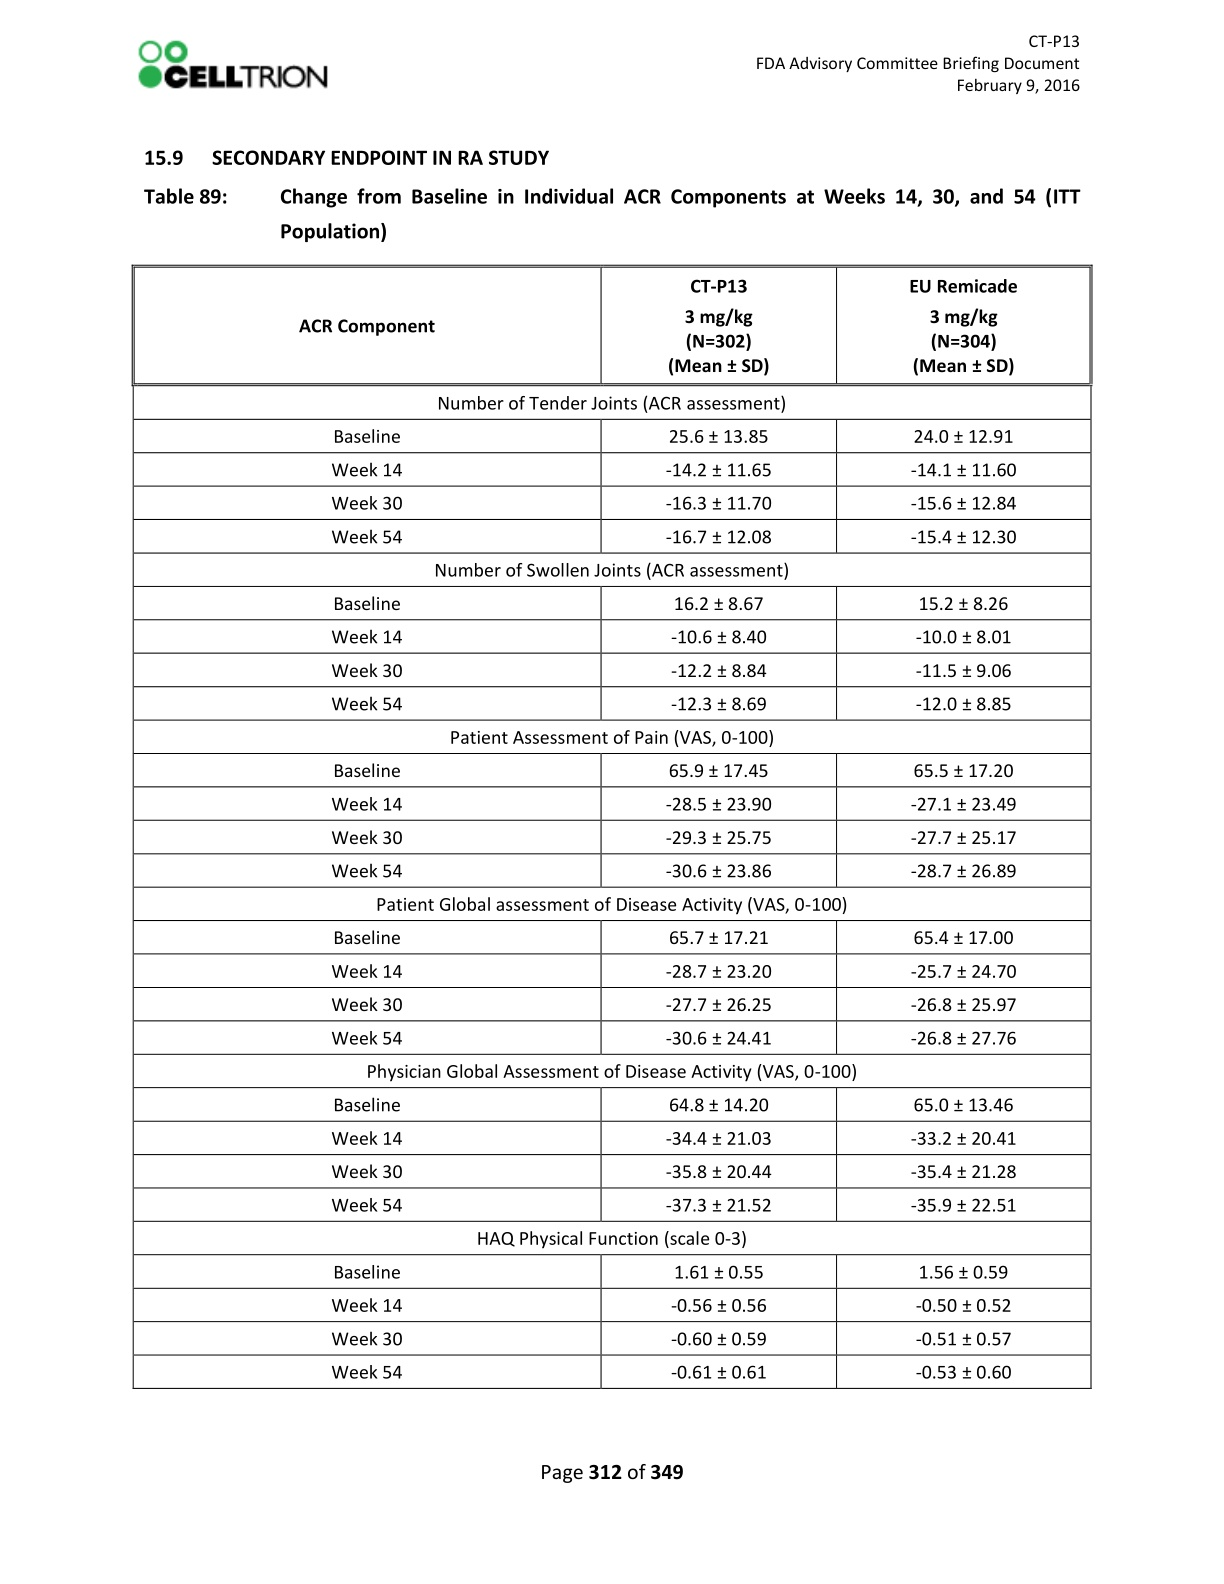merged_cells: (129, 264, 1093, 1390)
